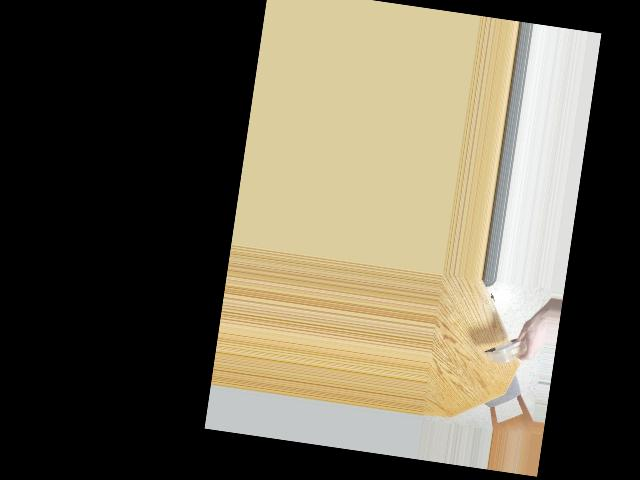cheese: (484, 334, 530, 367)
